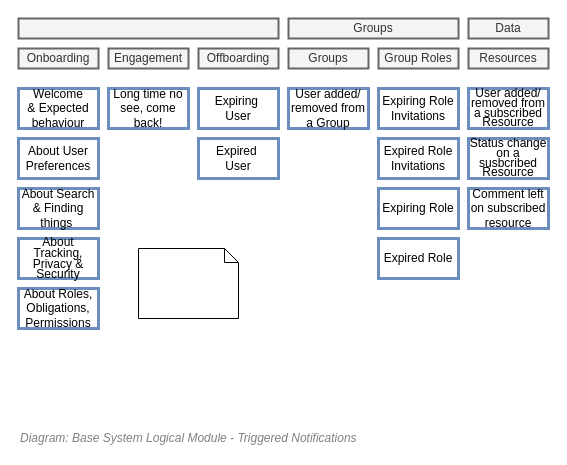
The diagram is 567 pixels wide and 465 high, and some of its shapes have lost their labels. Each missing label, with the box of its shape:
Onboarding messages can be combined as desired.: (138, 248, 238, 318)
Users: (17, 17, 279, 39)
